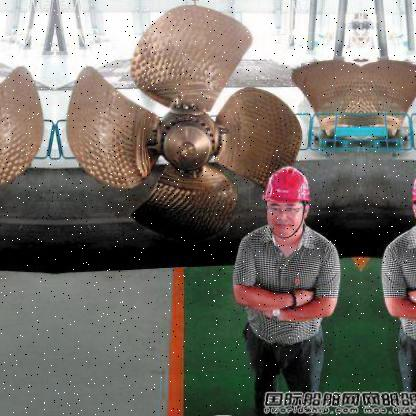Helmet: (256, 159, 324, 242)
